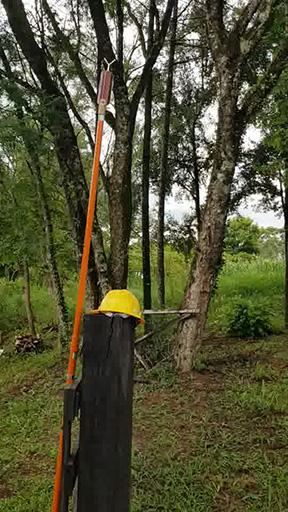Detector_Tensao_Contato: (96, 57, 117, 105)
Vara_Manobra: (54, 106, 108, 512)
